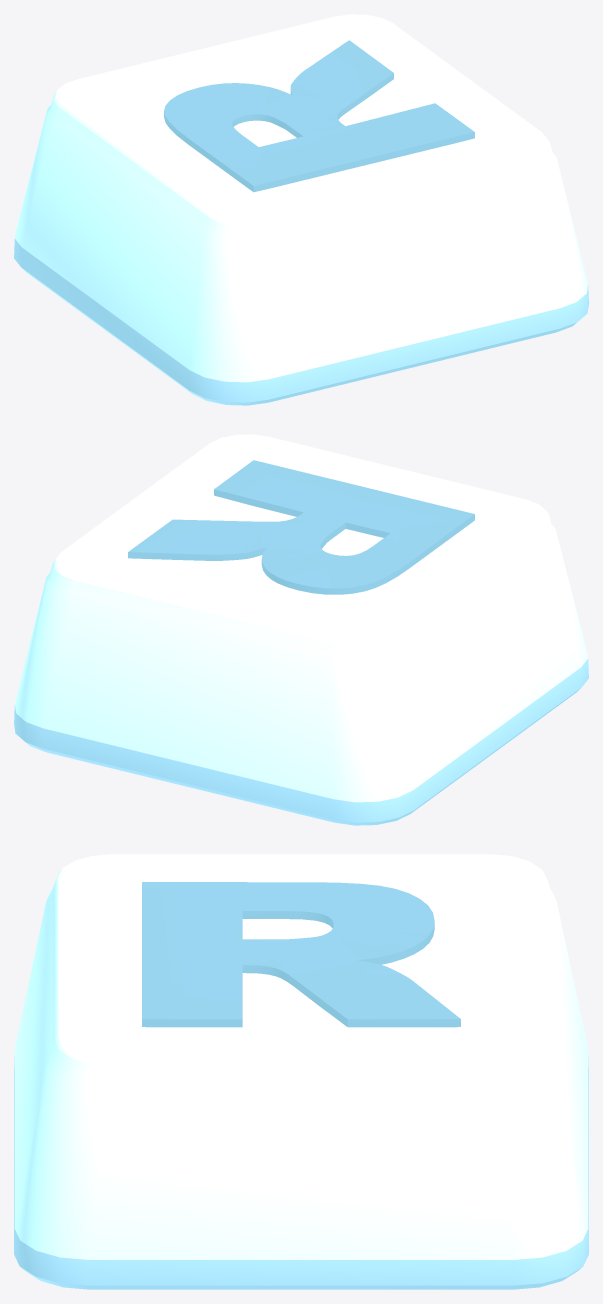
File: props__Key_R.glb
3 renders of one model, top to bottom at view 1: azimuth 30°, elevation 25°; view 2: azimuth 150°, elevation 25°; view 3: azimuth 270°, elevation 25°, orthographic. The views are drawn at different scales.
Visible parts, largest first — view 1: Key_R; view 2: Key_R; view 3: Key_R.
Part boxes in pixels (bbox=[...]): Key_R: bbox=[14, 14, 588, 405]; Key_R: bbox=[14, 434, 588, 825]; Key_R: bbox=[14, 854, 588, 1289].
Size of the model in its own units: 3.9 by 1.65 by 3.9.
